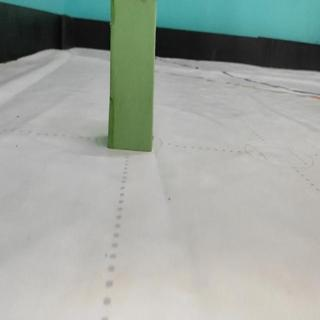greenbox: (105, 1, 157, 152)
